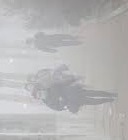person: (30, 86, 120, 114), (25, 31, 86, 54), (24, 63, 87, 85)
